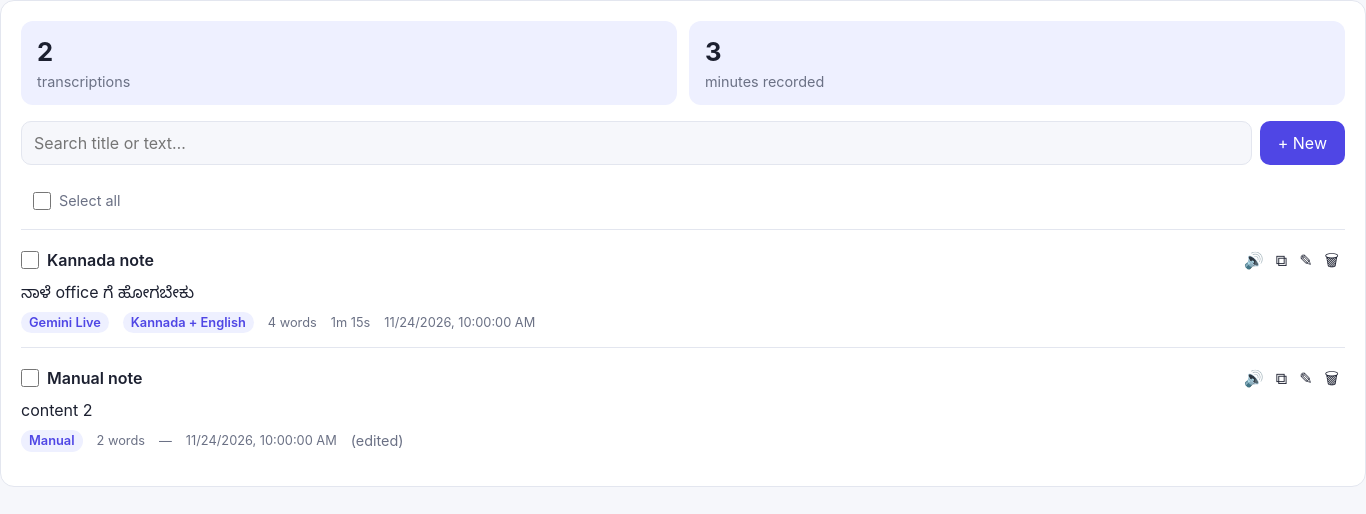
Test case: HistoryDashboard › multi-select › drops a row from the selection when it is deleted individually
Check: the button "Kannada note" is shown, box top-left (47, 248), bottom-right (1230, 272)
What coordinates should you click on to do the following:
click the checkbox named "Select all on this page"
I would click on:
 (42, 201)
Its box is top-left (33, 192), bottom-right (51, 210).
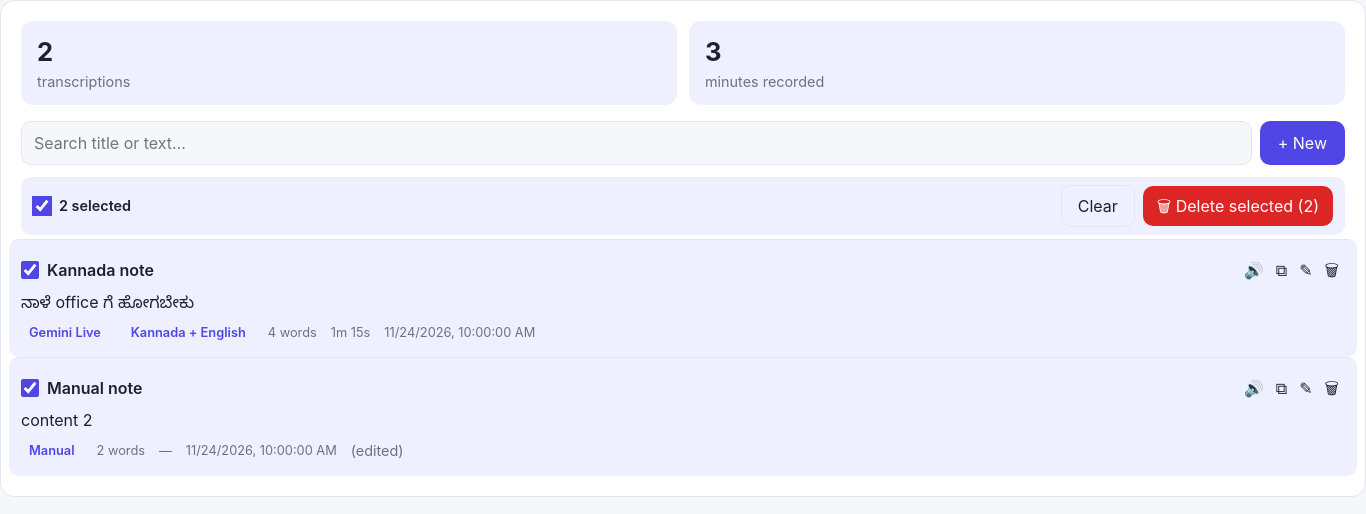
What coordinates should you click on to do the following:
click the 1st button titled "Delete"
I would click on:
 (1332, 270)
Its box is top-left (1319, 254), bottom-right (1345, 286).
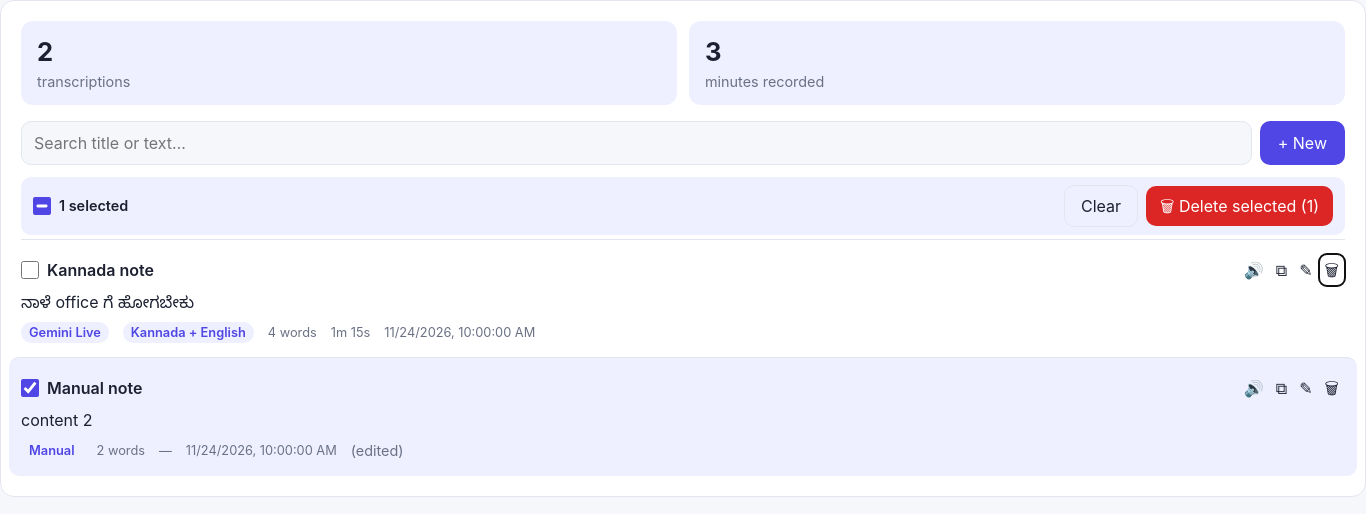
Check: the text "1 selected" is shown, box top-left (59, 195), bottom-right (128, 217)
